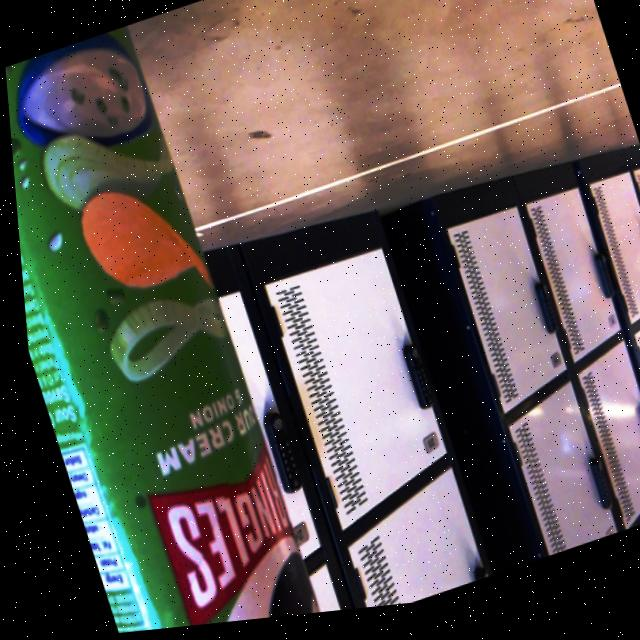greenpringles: (2, 0, 354, 640)
